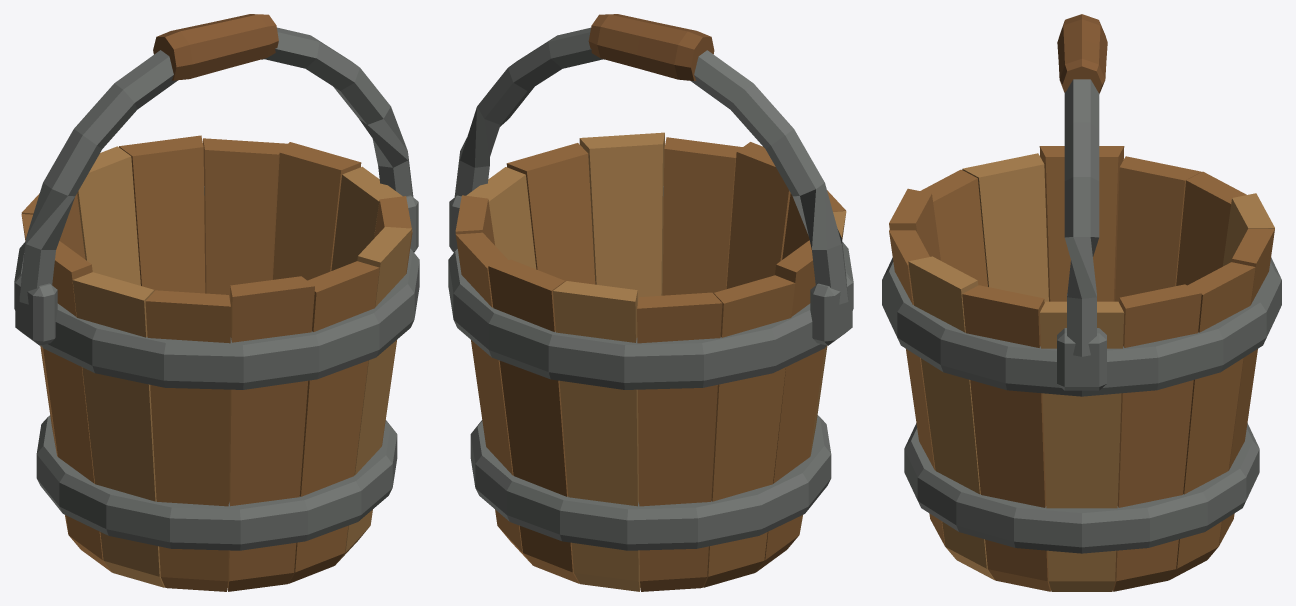
Rendered from bucket_wood_01.glb.
3 renders of one model, left to right at view 1: azimuth 30°, elevation 25°; view 2: azimuth 150°, elevation 25°; view 3: azimuth 270°, elevation 25°, orthographic. The views are drawn at different scales.
Parts seen in each view (by area): view 1: bucket_wood_01, bucket_wood_01__upper_hoop, bucket_wood_01__lower_hoop, bucket_wood_01__arched_handle, bucket_wood_01__handle_grip, bucket_wood_01__handle_lug; view 2: bucket_wood_01, bucket_wood_01__upper_hoop, bucket_wood_01__lower_hoop, bucket_wood_01__arched_handle, bucket_wood_01__handle_grip, bucket_wood_01__handle_lug; view 3: bucket_wood_01, bucket_wood_01__upper_hoop, bucket_wood_01__lower_hoop, bucket_wood_01__arched_handle, bucket_wood_01__handle_grip, bucket_wood_01__handle_lug.001.
Part boxes in pixels (x1,y1,x2,y2): bucket_wood_01: (21,135,412,591); bucket_wood_01__upper_hoop: (14,186,419,389); bucket_wood_01__lower_hoop: (36,415,397,550); bucket_wood_01__arched_handle: (19,27,413,304); bucket_wood_01__handle_grip: (153,14,278,80); bucket_wood_01__handle_lug: (15,274,57,345); bucket_wood_01: (455,132,846,591); bucket_wood_01__upper_hoop: (448,186,853,389); bucket_wood_01__lower_hoop: (470,415,831,550); bucket_wood_01__arched_handle: (454,27,848,304); bucket_wood_01__handle_grip: (588,14,714,81); bucket_wood_01__handle_lug: (810,274,852,345); bucket_wood_01: (889,146,1274,591); bucket_wood_01__upper_hoop: (882,257,1281,396); bucket_wood_01__lower_hoop: (904,423,1259,553); bucket_wood_01__arched_handle: (1064,79,1099,356); bucket_wood_01__handle_grip: (1057,14,1107,93); bucket_wood_01__handle_lug.001: (1057,328,1106,390).
Bounding box in the file's own units: 0.4637 × 0.5718 × 0.416.
